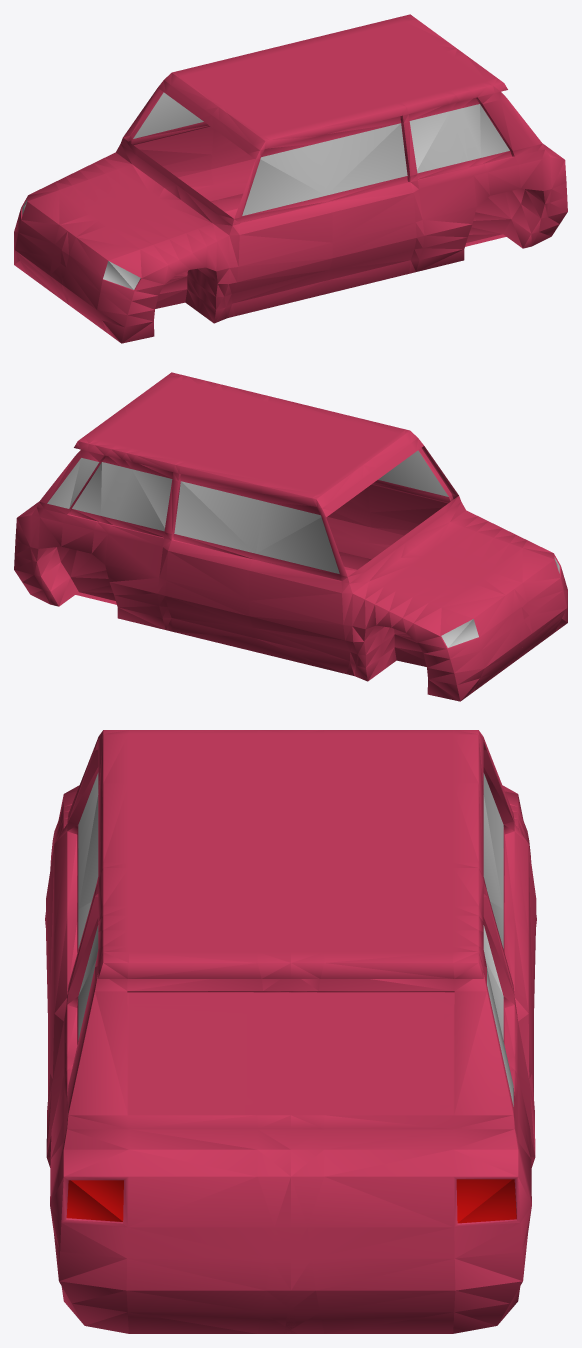
The model's file is voiture.obj.
3 renders of one model, top to bottom at view 1: azimuth 30°, elevation 25°; view 2: azimuth 150°, elevation 25°; view 3: azimuth 270°, elevation 25°, orthographic. The views are drawn at different scales.
Visible parts, largest first — view 1: Cube; view 2: Cube; view 3: Cube.
Part boxes in pixels (left/top/right/bottom): Cube: left=14, top=14, right=567, bottom=343; Cube: left=14, top=372, right=567, bottom=701; Cube: left=45, top=730, right=536, bottom=1333.
Bounding box in the file's own units: 11.58 × 3.83 × 5.32.
